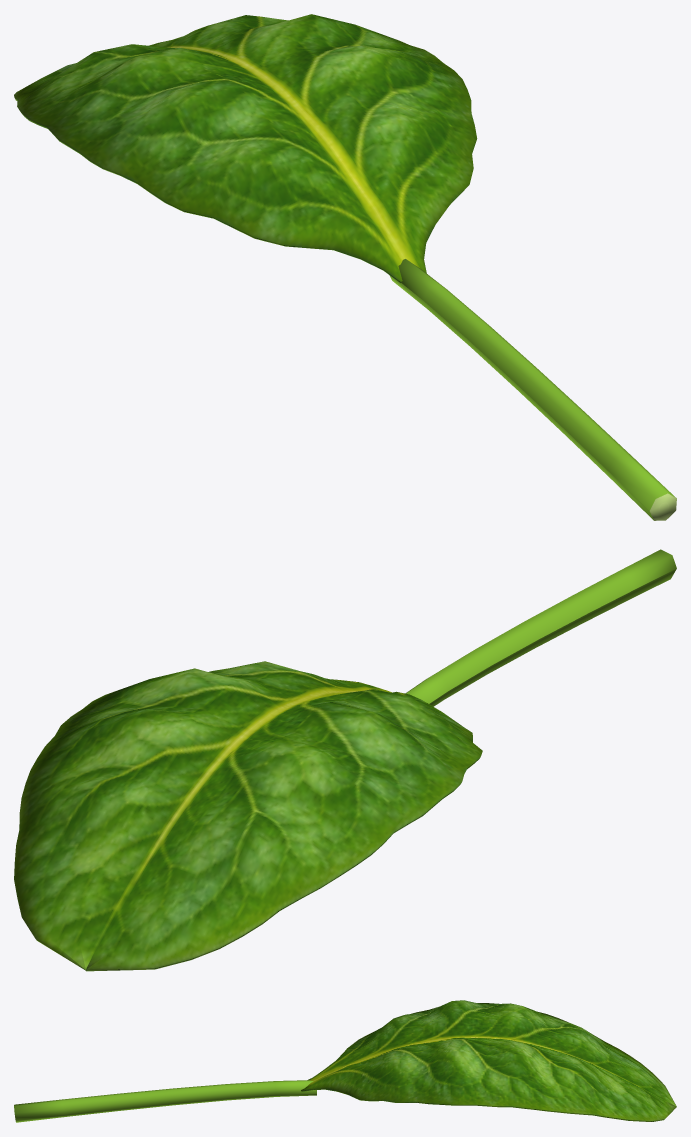
Rendered from NP_Spinach_LooseLeaf.fbx.
3 renders of one model, top to bottom at view 1: azimuth 30°, elevation 25°; view 2: azimuth 150°, elevation 25°; view 3: azimuth 270°, elevation 25°, orthographic. The views are drawn at different scales.
Parts seen in each view (by area): view 1: NP_Spinach_LooseLeaf.001; view 2: NP_Spinach_LooseLeaf.001; view 3: NP_Spinach_LooseLeaf.001.
Part boxes in pixels (x1,y1,x2,y2): NP_Spinach_LooseLeaf.001: [14, 14, 676, 520]; NP_Spinach_LooseLeaf.001: [14, 549, 676, 971]; NP_Spinach_LooseLeaf.001: [14, 1000, 676, 1122].
Bounding box in the file's own units: 21.98 × 9.59 × 60.22.
